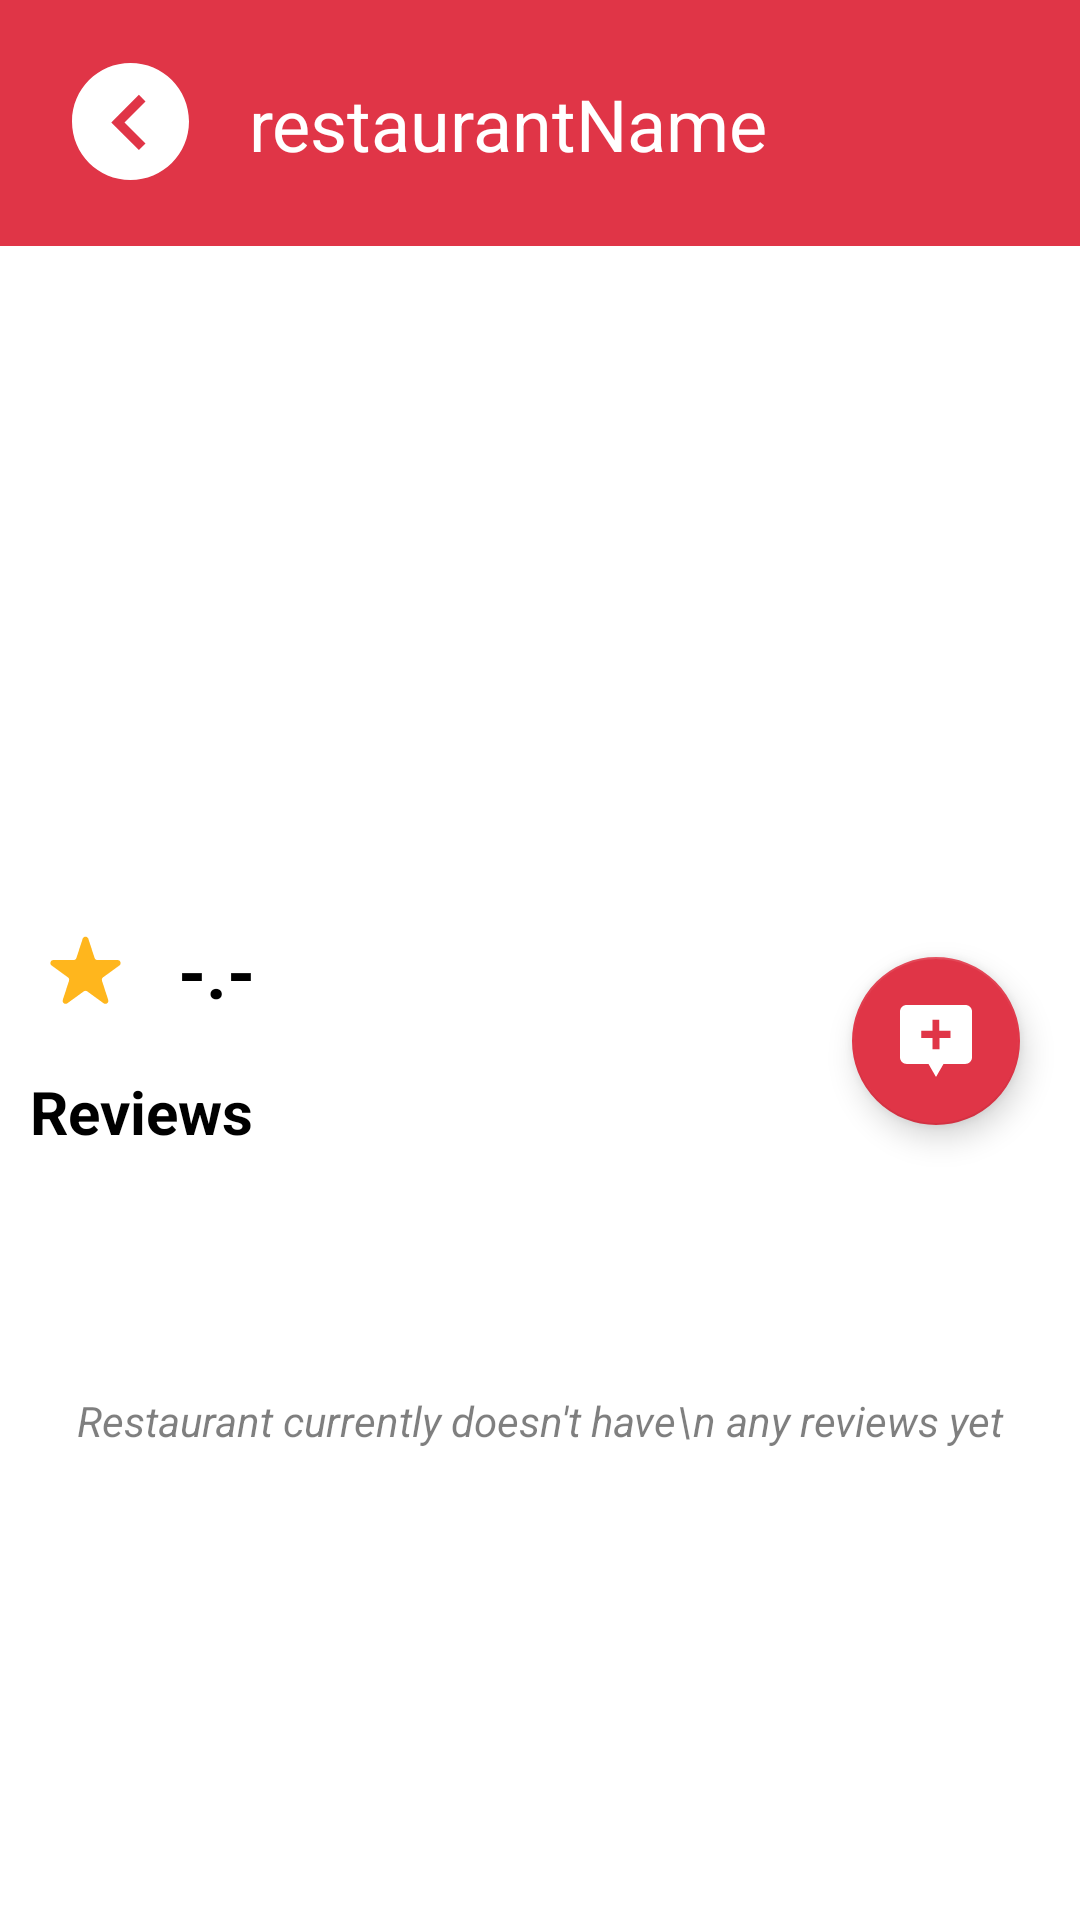

Locate icon controls on the screen. Image size 1080x1920, boxes as [left=x1, top=y1, right=x2, bottom=y2].
add msg: [left=852, top=957, right=1020, bottom=1125]
back: [left=72, top=63, right=189, bottom=180]
rating box side: [left=50, top=936, right=251, bottom=1004]
